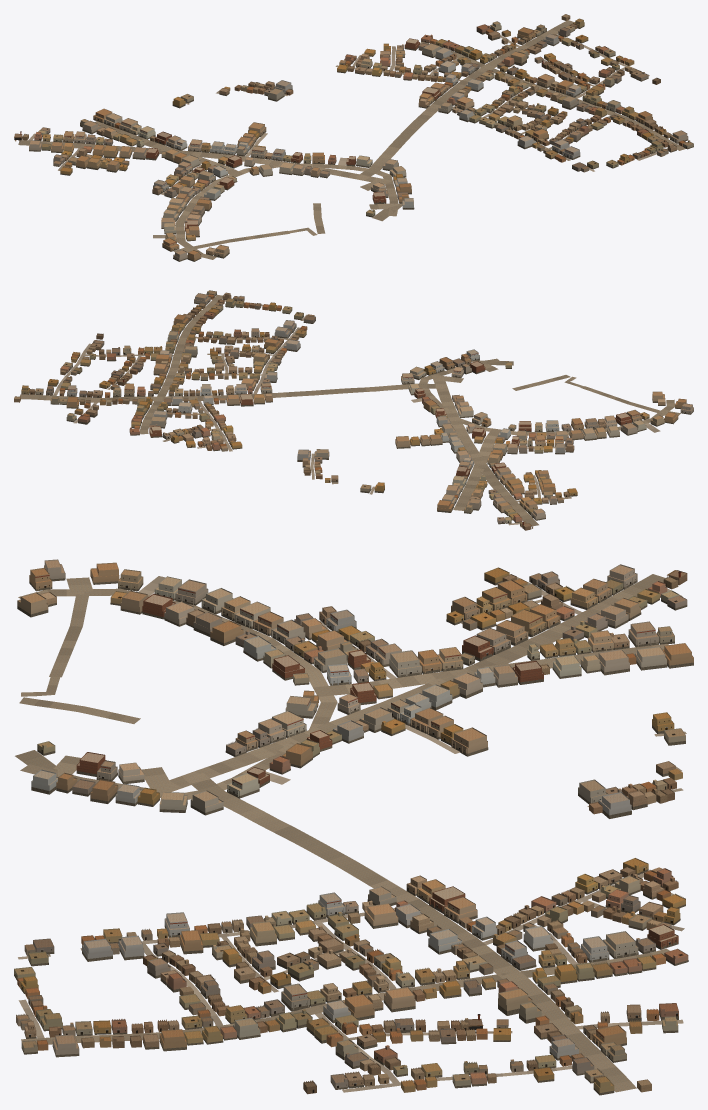
The model's file is uruk_quarter_11.glb.
3 views of the same model, one above another, from view 1: azimuth 30°, elevation 25°; view 2: azimuth 150°, elevation 25°; view 3: azimuth 270°, elevation 25° (orthographic). The views are drawn at different scales.
Visible parts, largest first — view 1: uruk_quarter_11; view 2: uruk_quarter_11; view 3: uruk_quarter_11.
Boxes of the visible parts, x1,y1,x2,y2 form: uruk_quarter_11: (14, 14, 693, 261); uruk_quarter_11: (14, 290, 693, 530); uruk_quarter_11: (14, 559, 693, 1095).
Bounding box in the file's own units: 737 × 18.55 × 414.
14 materials, 5 textured.
